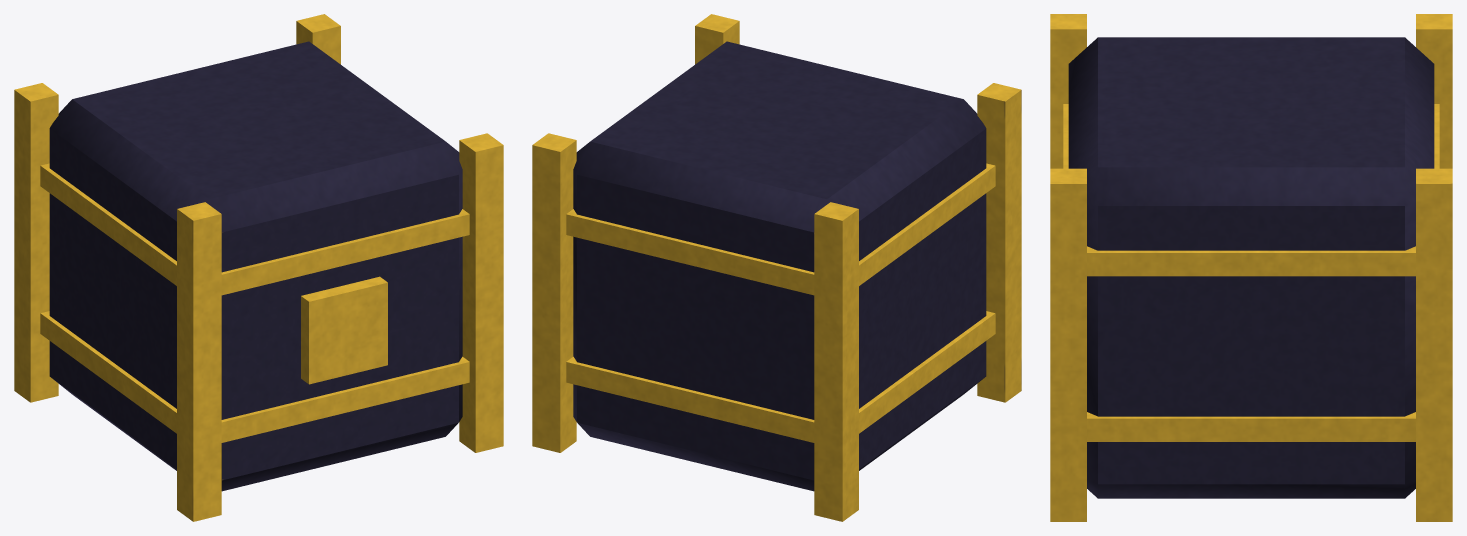
Rendered from loot_crate.fbx.
3 views of the same model, side by side, from view 1: azimuth 30°, elevation 25°; view 2: azimuth 150°, elevation 25°; view 3: azimuth 270°, elevation 25° (orthographic). The views are drawn at different scales.
Visible parts, largest first — view 1: Loot_crate; view 2: Loot_crate; view 3: Loot_crate.
Part boxes in pixels (x1,y1,x2,y2): Loot_crate: (14, 14, 503, 521); Loot_crate: (532, 14, 1021, 521); Loot_crate: (1050, 14, 1452, 521).
Bounding box in the file's own units: 4.4 × 4.08 × 4.4.
1 material, 1 textured.
